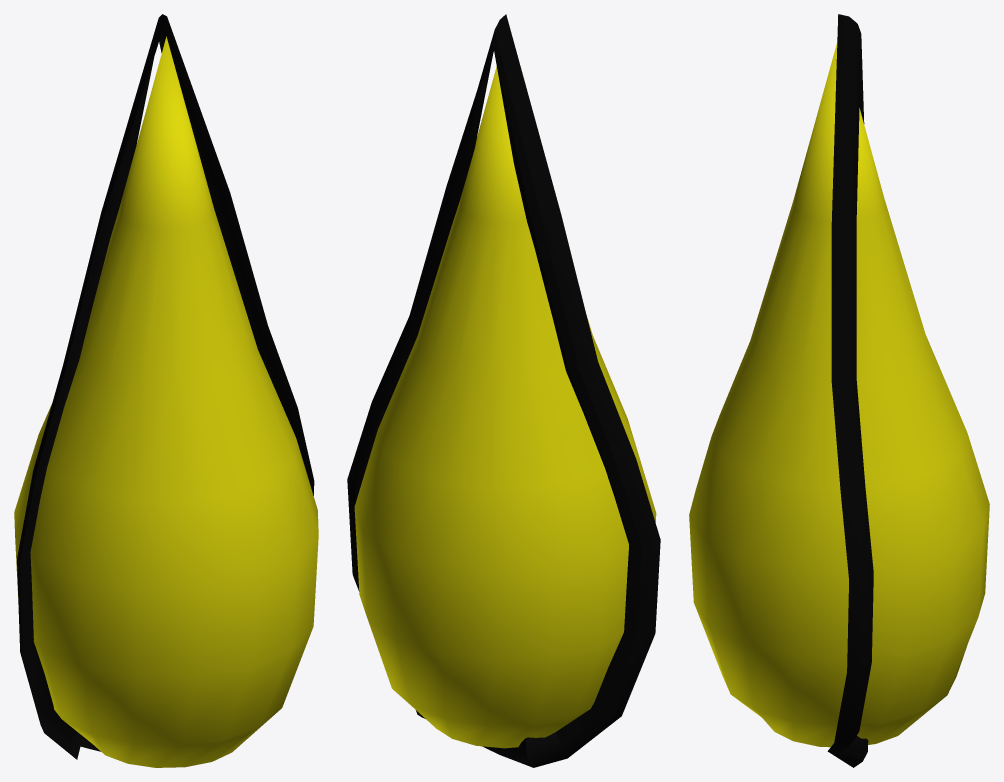
Rendered from Yellow.fbx.
3 renders of one model, left to right at view 1: azimuth 30°, elevation 25°; view 2: azimuth 150°, elevation 25°; view 3: azimuth 270°, elevation 25°, orthographic. The views are drawn at different scales.
Parts seen in each view (by area): view 1: LineArt.006; view 2: LineArt.006; view 3: LineArt.006.
Boxes of the visible parts, left/top/right/bottom form: LineArt.006: left=14, top=14, right=318, bottom=767; LineArt.006: left=347, top=14, right=660, bottom=767; LineArt.006: left=689, top=14, right=989, bottom=767.
Bounding box in the file's own units: 9.68 × 22.87 × 8.46.
